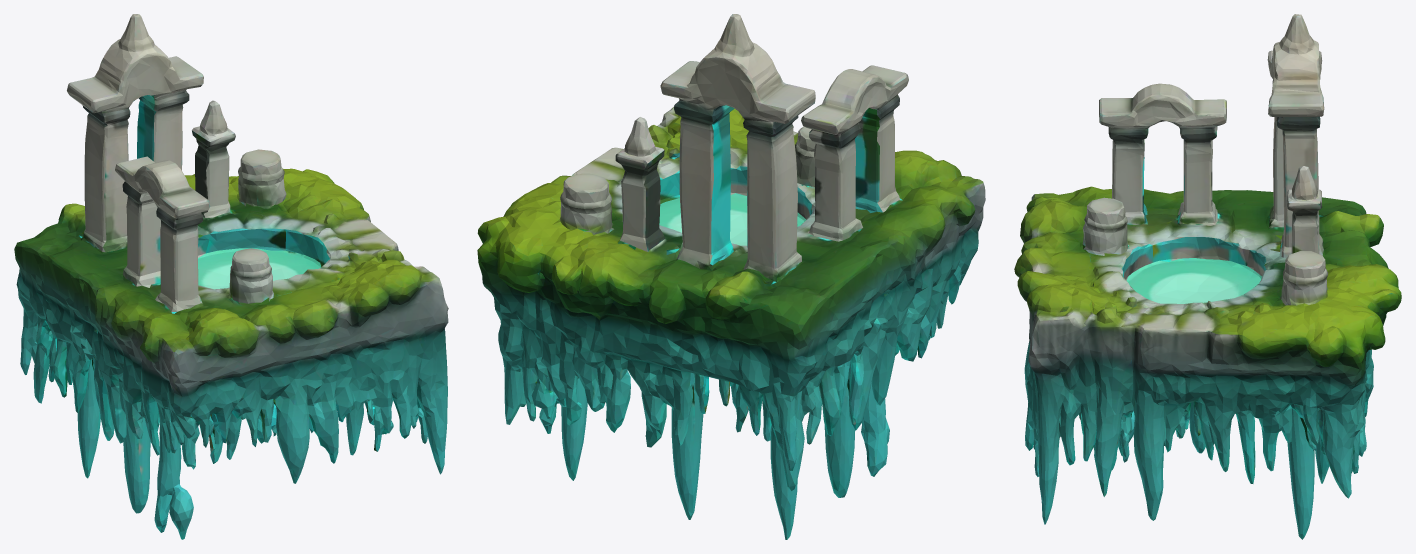
The model's file is floating_sky_island.glb.
3 renders of one model, left to right at view 1: azimuth 30°, elevation 25°; view 2: azimuth 150°, elevation 25°; view 3: azimuth 270°, elevation 25°, orthographic. The views are drawn at different scales.
Visible parts, largest first — view 1: tmp4sabm99v.ply; view 2: tmp4sabm99v.ply; view 3: tmp4sabm99v.ply.
Boxes of the visible parts, x1,y1,x2,y2 form: tmp4sabm99v.ply: (14,14,448,539); tmp4sabm99v.ply: (477,14,985,539); tmp4sabm99v.ply: (1014,14,1401,539).
Size of the model in its own units: 1.45 by 1.99 by 1.52.
1 material, 1 textured.
